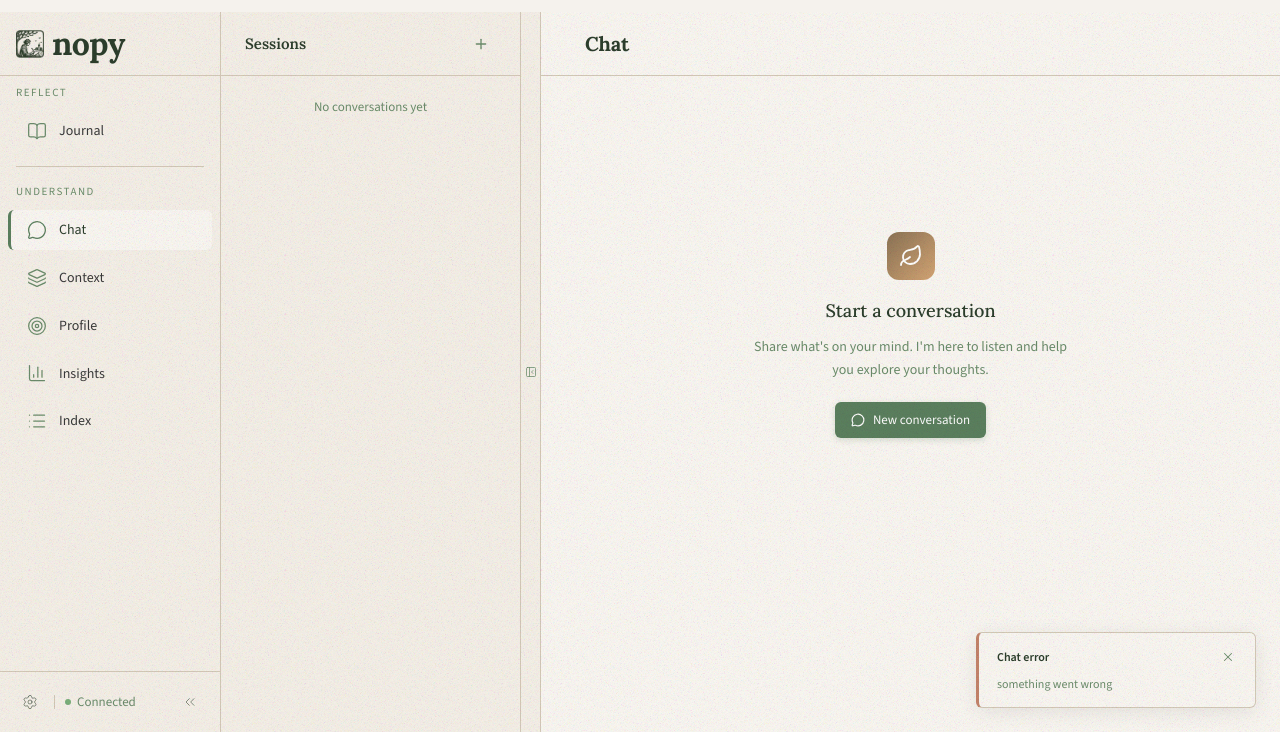
Test case: Chat stream → DOM rendering › a notification can be manually dismissed via the × button
What coordinates should you click on to do the following:
click the button named "dismiss notification"
I would click on:
 (1228, 657)
Its box is 1219,648 -> 1237,666.
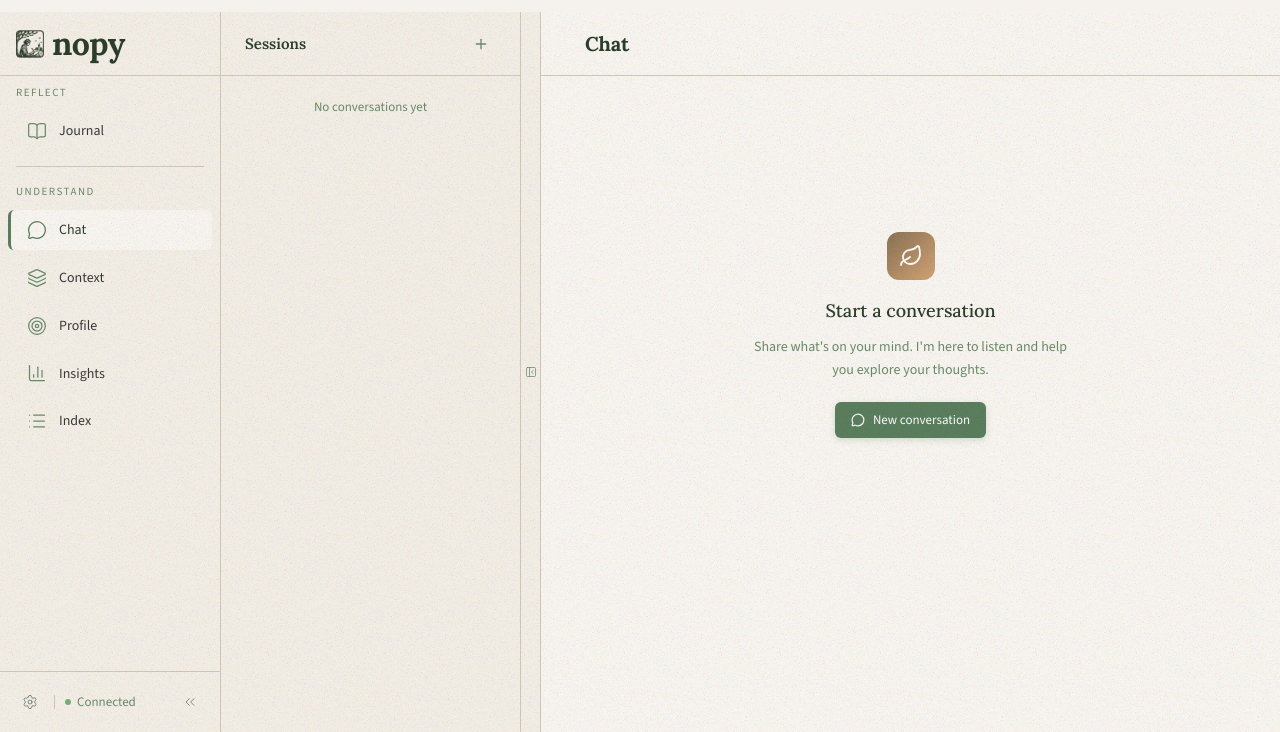
Check: the text "Chat error" is gone
